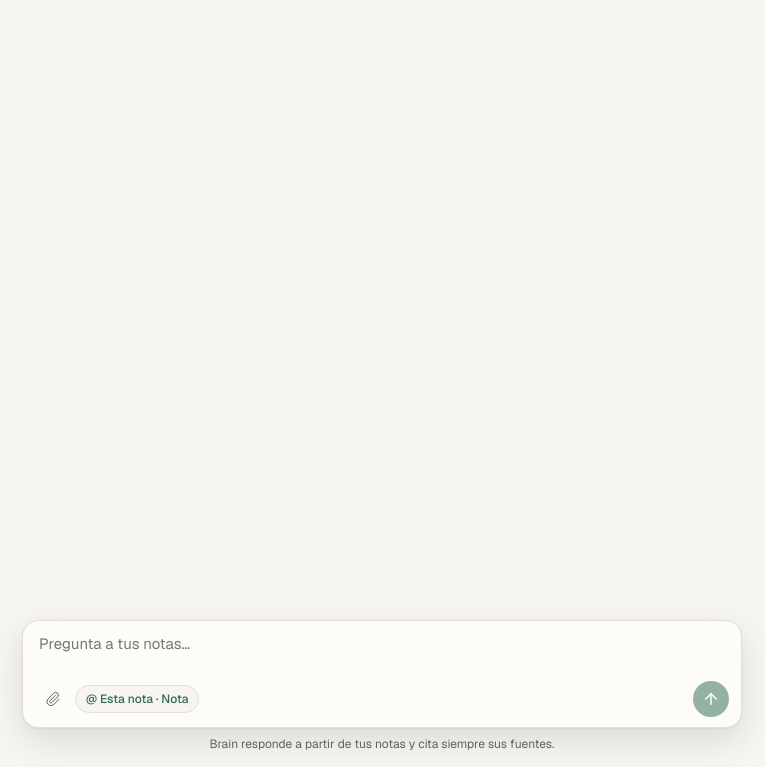
Test: ?ask=<path> from the graph › sends the scope with the question and shows exactly what the user typed
Type "resume" into the text box with test id "chat-input".
click(384, 655); type("resume")  # box [39,633,729,677]
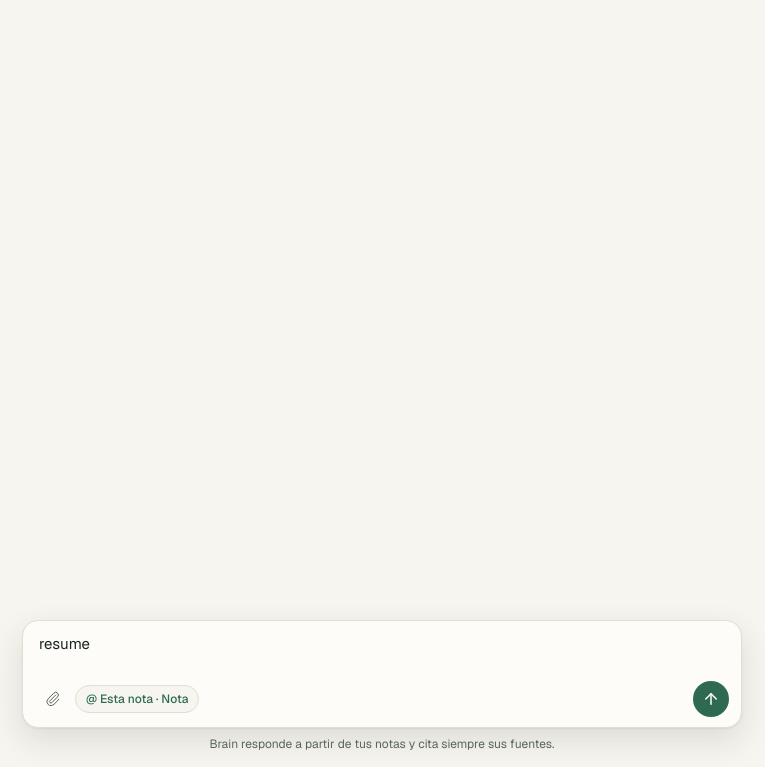
Click the button with test id "chat-send-btn".
click(711, 699)  # box [693,681,729,717]
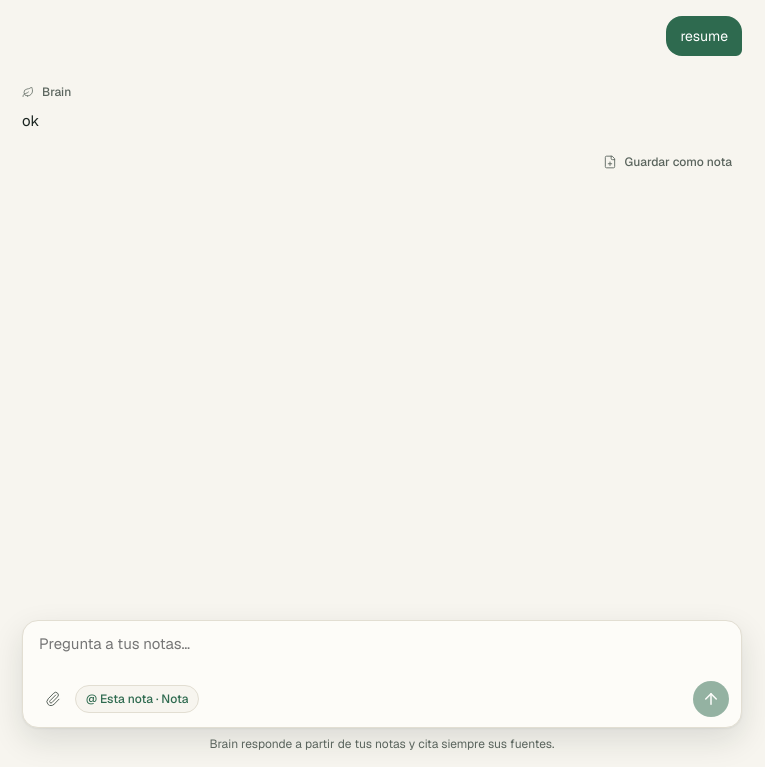
Check: the text with test id "msg-bubble-user" reads "resume", box [680,27,728,45]
